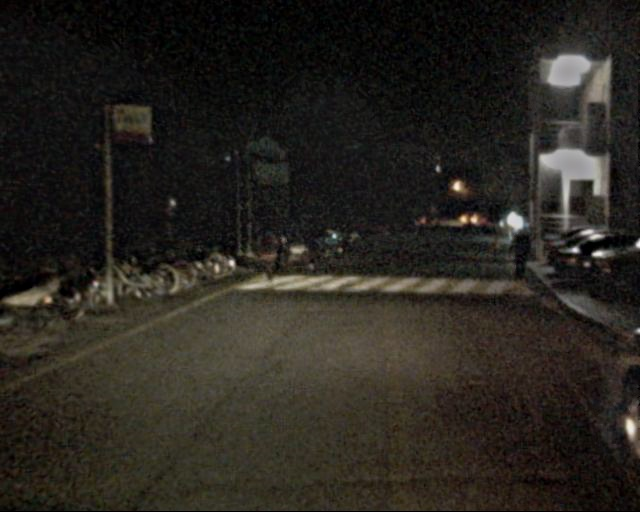person: (504, 226, 531, 292), (249, 224, 273, 283), (298, 219, 317, 265)
